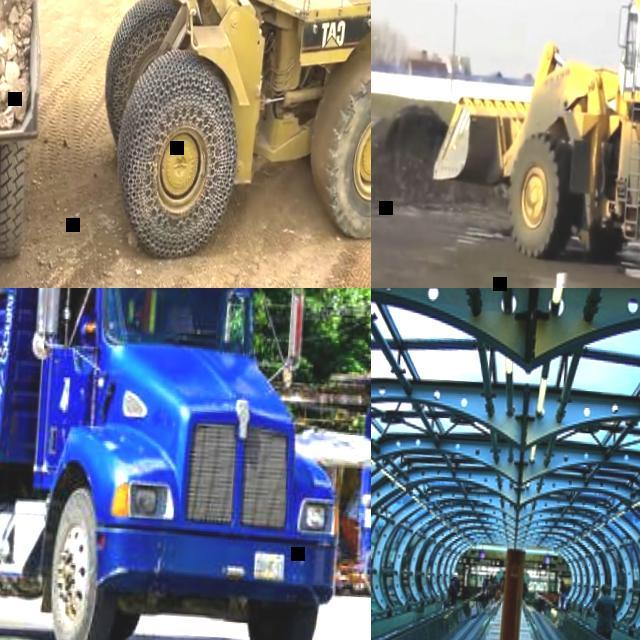machinery: (0, 288, 365, 640), (0, 0, 371, 284), (422, 0, 640, 288)
no_helmet: (600, 584, 610, 596), (452, 573, 458, 579), (490, 577, 493, 582), (561, 590, 563, 594)
no_vest: (596, 594, 616, 631), (450, 578, 460, 592), (486, 582, 494, 596), (559, 593, 565, 602)
person: (592, 584, 618, 640), (447, 572, 460, 605), (485, 576, 495, 604), (559, 590, 565, 608)
